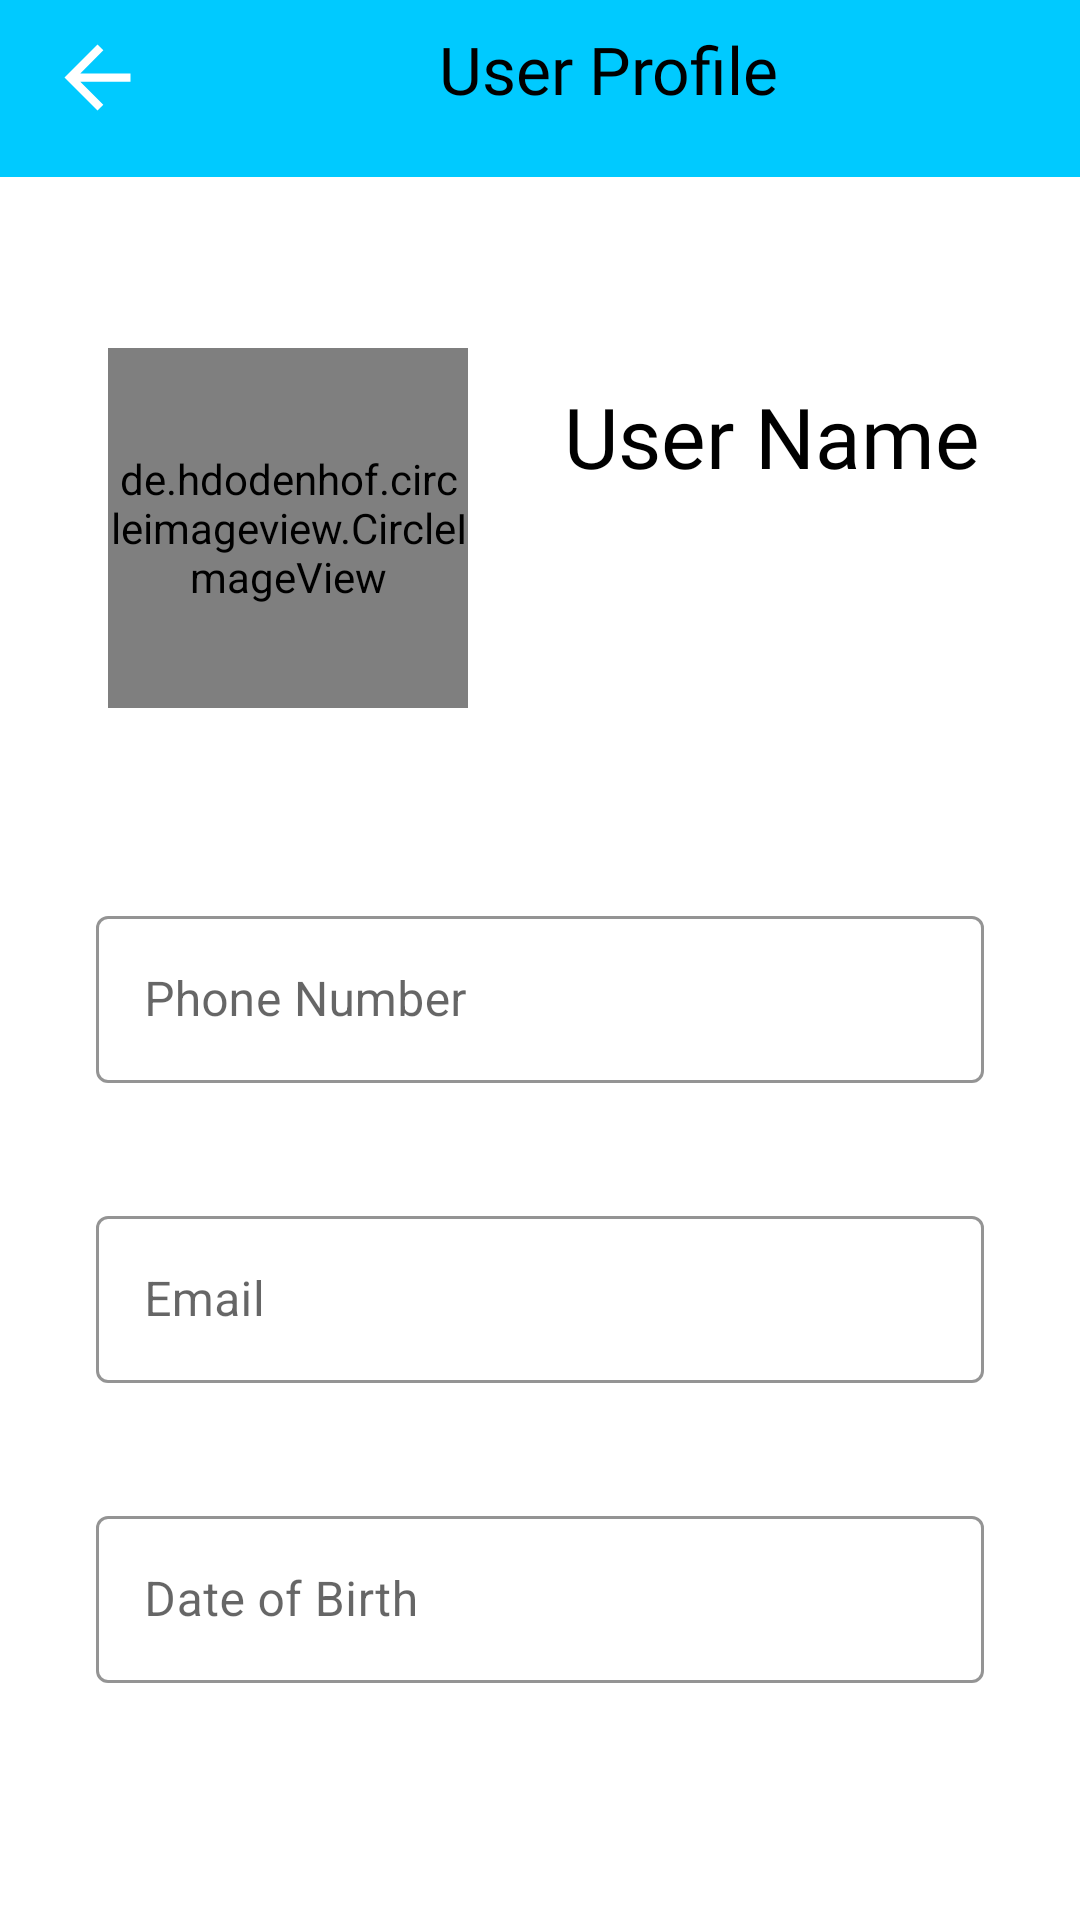

Screen size 1080 x 1920. Icon name, then its box in pixels as detection(x1, y1, x2, y2):
back: detection(64, 44, 131, 111)
